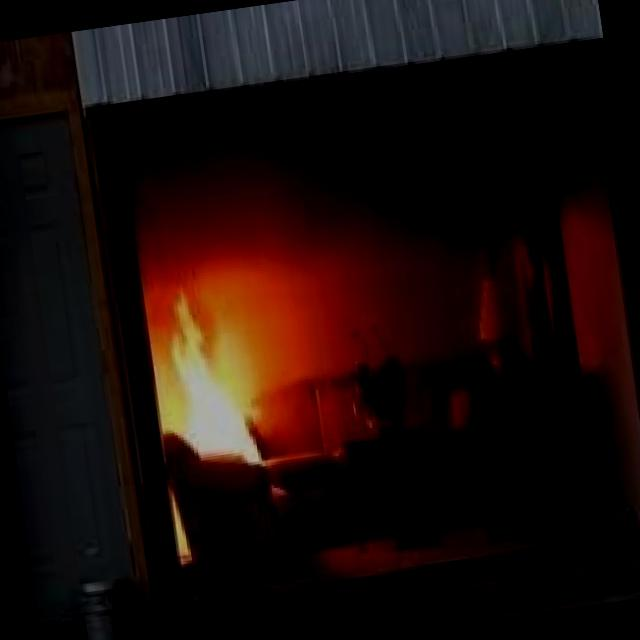fire: (136, 274, 297, 474)
